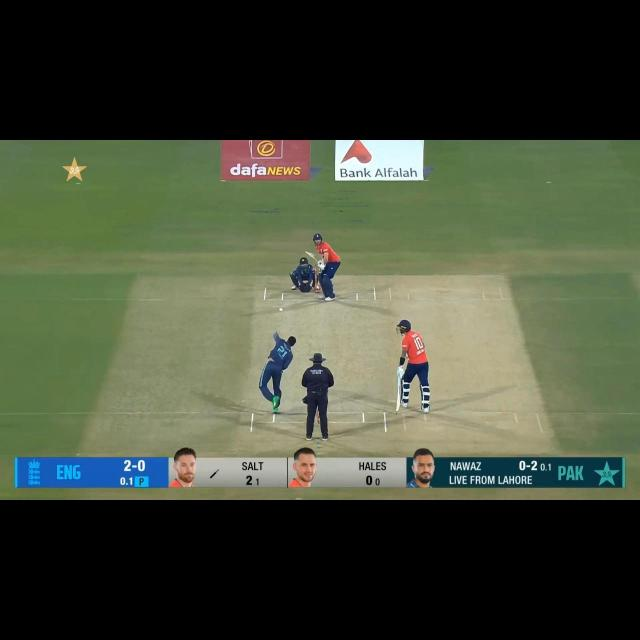bat: (394, 382, 403, 414), (304, 250, 319, 264)
toe: (394, 399, 402, 412), (304, 250, 313, 257)
